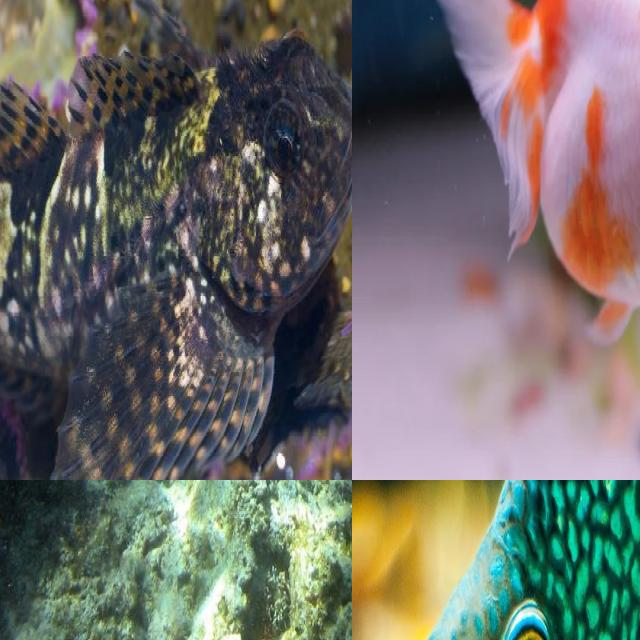fish: (0, 0, 352, 480), (475, 0, 640, 480), (352, 480, 640, 640)
